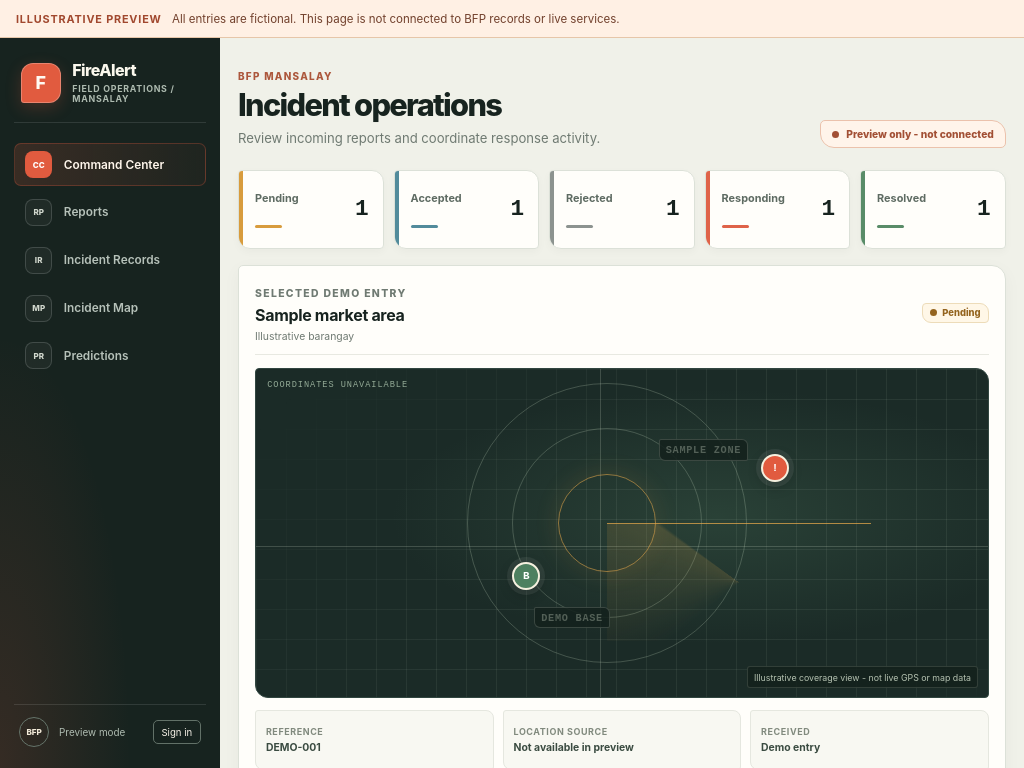
Test case: opens the incident records view
This screenshot has width=1024, height=768.
Click the button "IR Incident Records" at (110, 260), box [14,239,206,282]
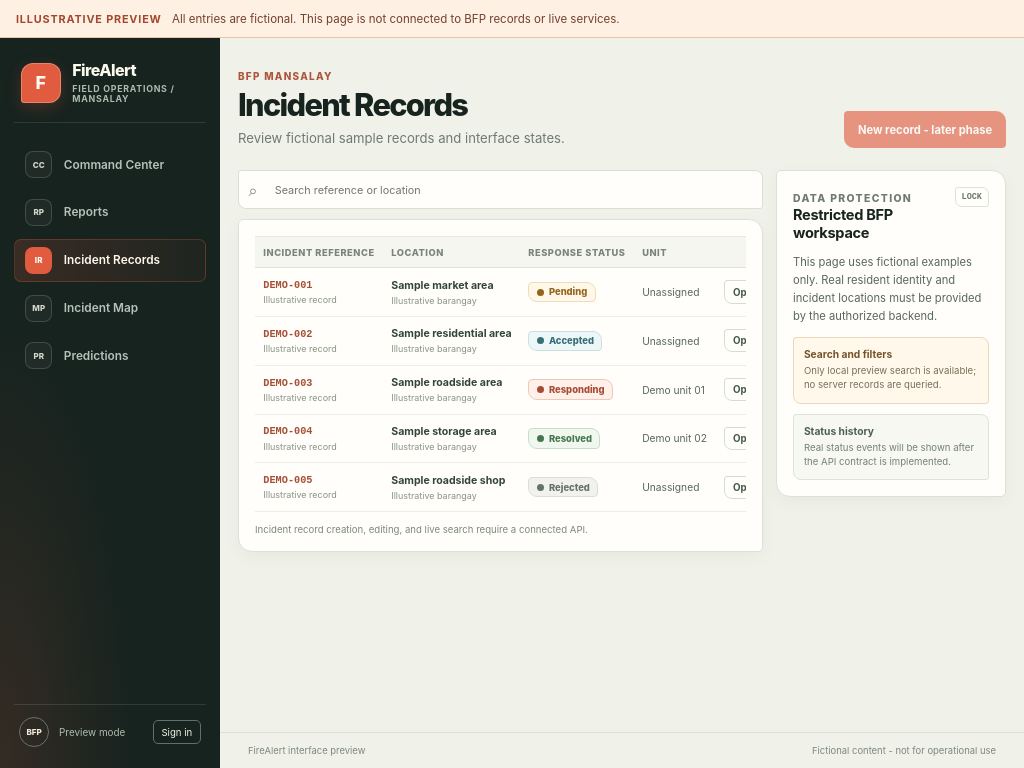
Check: the heading "Incident Records" is shown, box [238,86,467,122]
Check: the text "Review fictional sample records and interface states." is shown, box [238,128,565,148]
